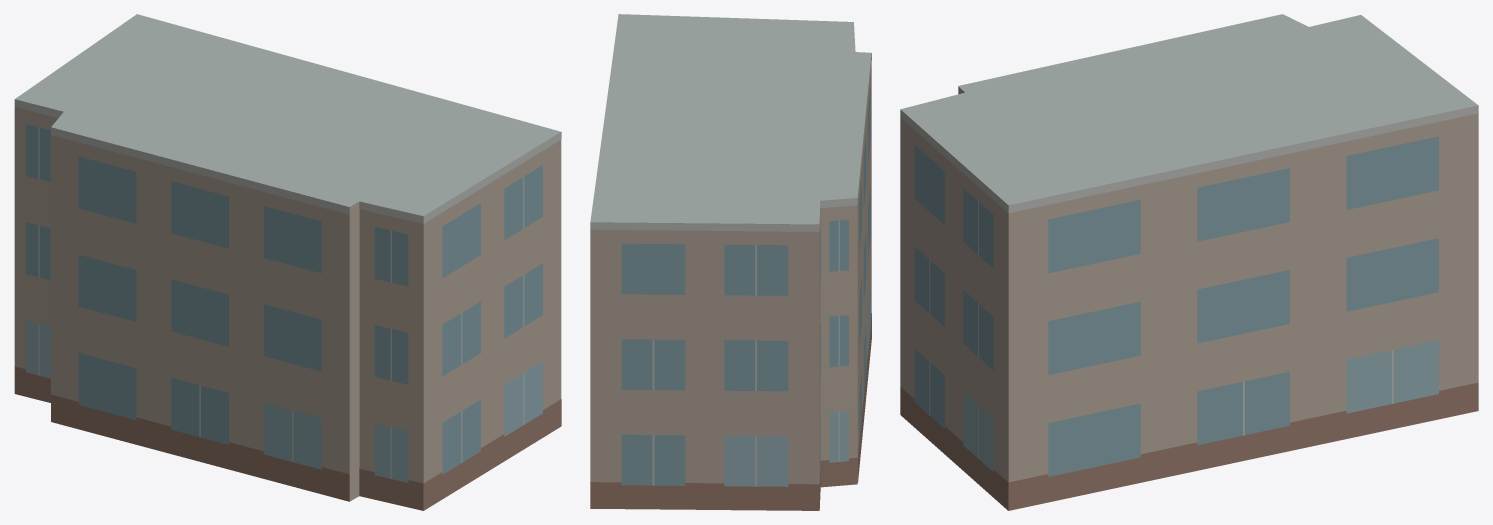
Rendered from survey-upis-32747027.glb.
3 renders of one model, left to right at view 1: azimuth 30°, elevation 25°; view 2: azimuth 150°, elevation 25°; view 3: azimuth 270°, elevation 25°, orthographic. The views are drawn at different scales.
Visible parts, largest first — view 1: survey-upis-32747027.tmp; view 2: survey-upis-32747027.tmp; view 3: survey-upis-32747027.tmp.
Part boxes in pixels (x1,y1,x2,y2): survey-upis-32747027.tmp: (14,14,561,510); survey-upis-32747027.tmp: (590,14,871,510); survey-upis-32747027.tmp: (900,14,1478,510).
Size of the model in its own units: 12.57 by 9.35 by 16.05.
